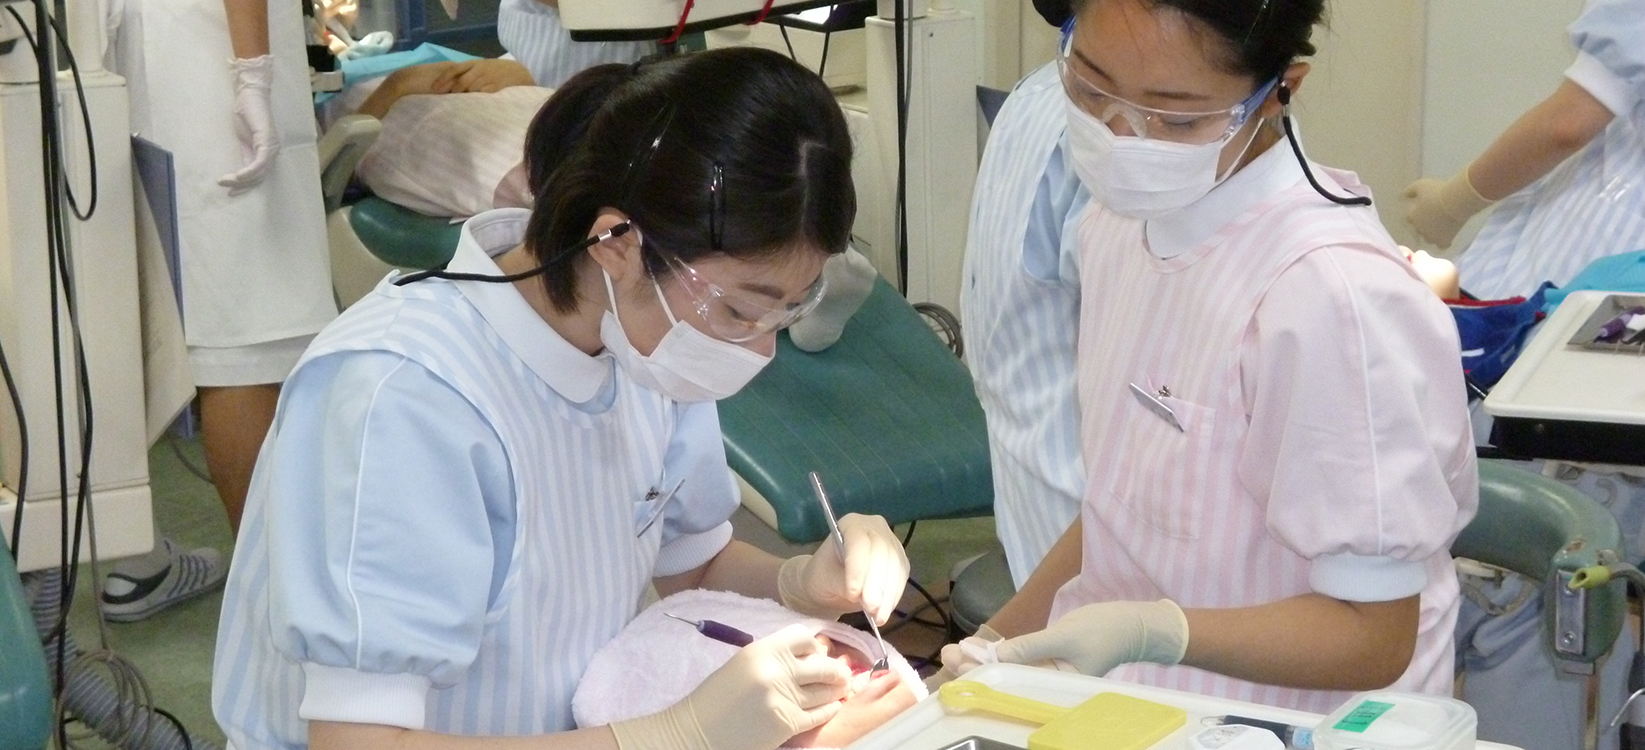mask: (598, 303, 773, 411), (1063, 103, 1220, 217)
